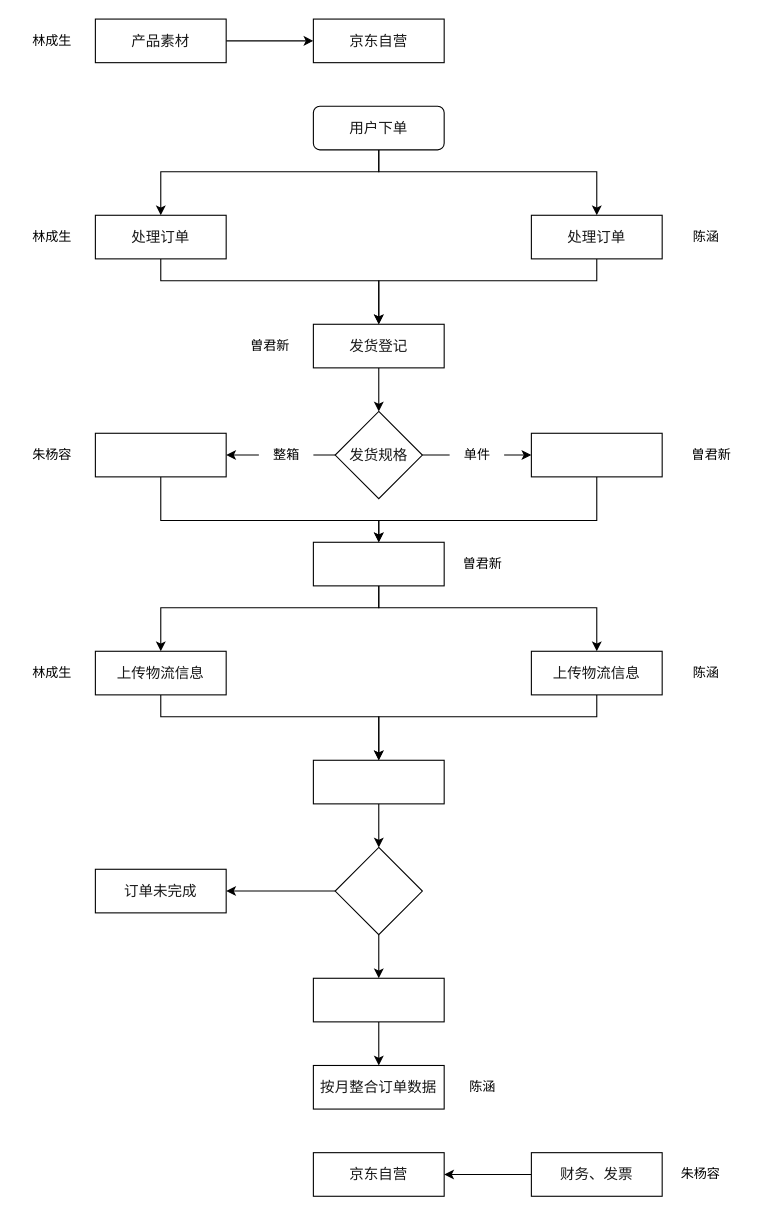
Some shapes in this 762 by 1215 pixel diagram are drawn without their labels. The centre of each missing label's shape, as x and y in pixels:
后台 更新物流 信息: [378,781]
整合物流信息: [378,563]
福州发货: [596,454]
订单完成: [378,999]
订单状态: [378,890]
贵州发货: [160,454]
